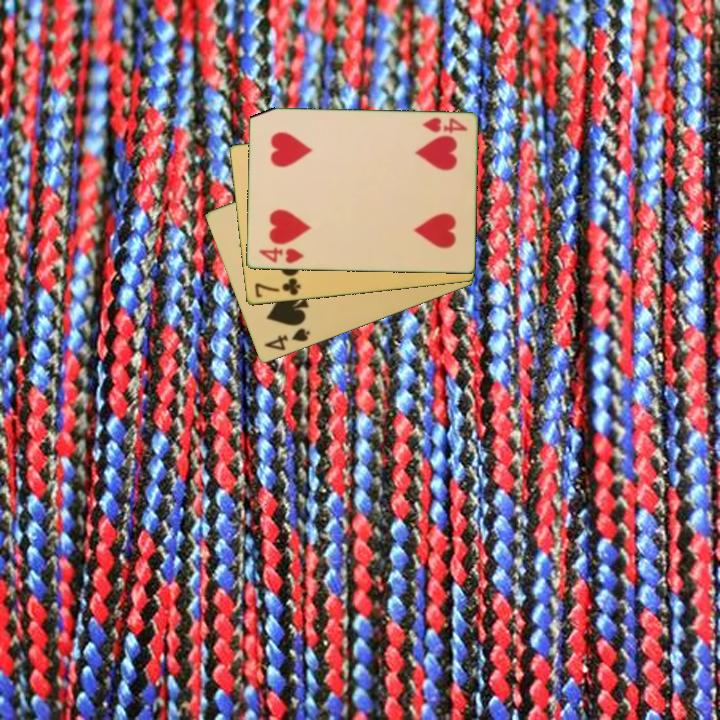4h: (419, 114, 470, 137), (255, 244, 306, 266)
4s: (260, 325, 313, 354)
7c: (251, 274, 303, 301)
